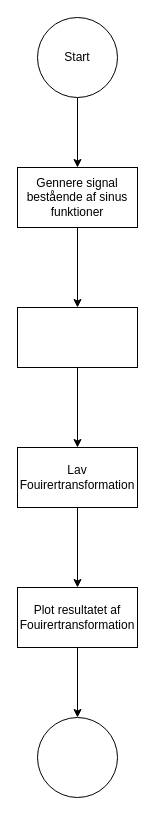
The diagram is 155 pixels wide and 815 high, and some of its shapes have lost their labels. The shapes that lost their labels are listed below. From the top down, each one's box as (x1, y1, x2, y2) in pixels, then its label:
(16, 306, 138, 368): Plot signalet med matplotlib
(36, 716, 118, 798): Slut
